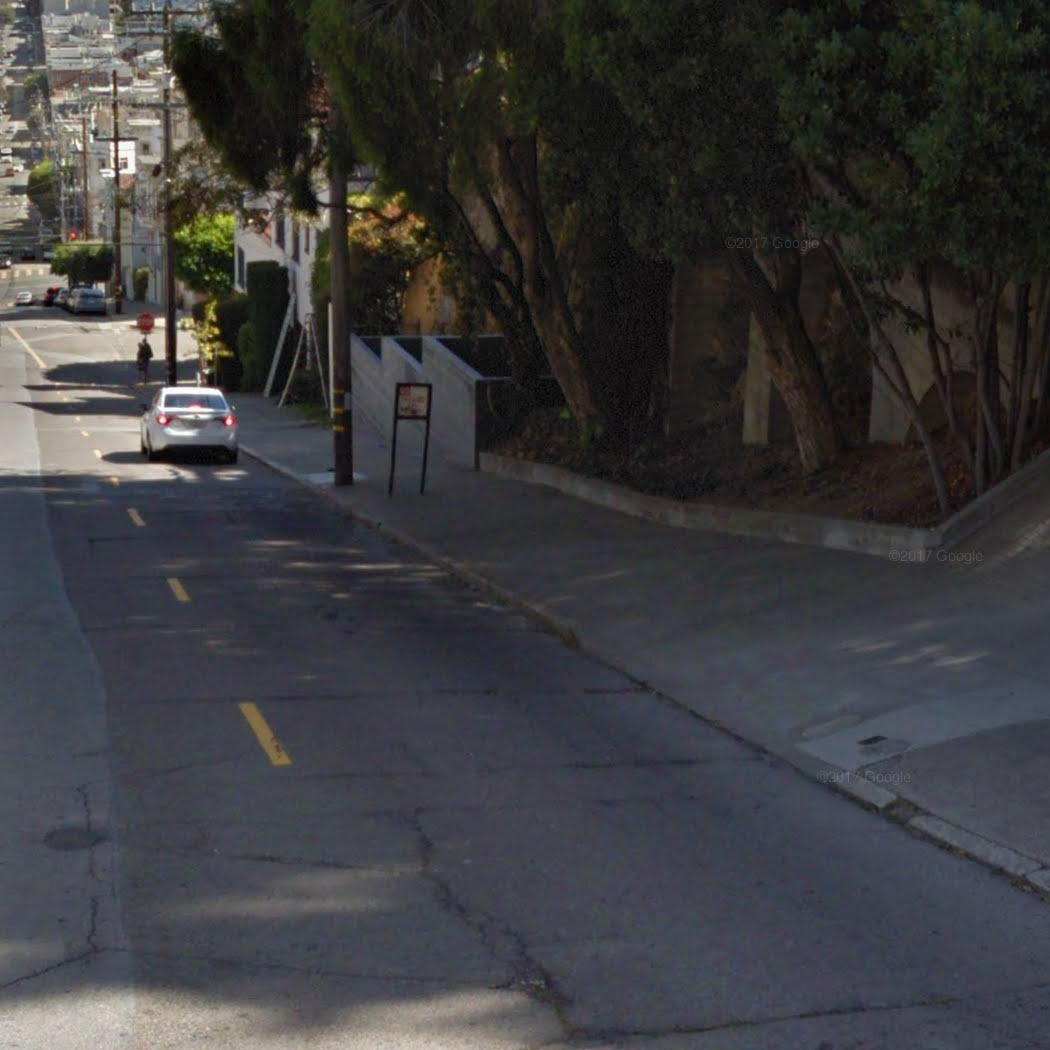No Parking: (394, 383, 432, 419)
